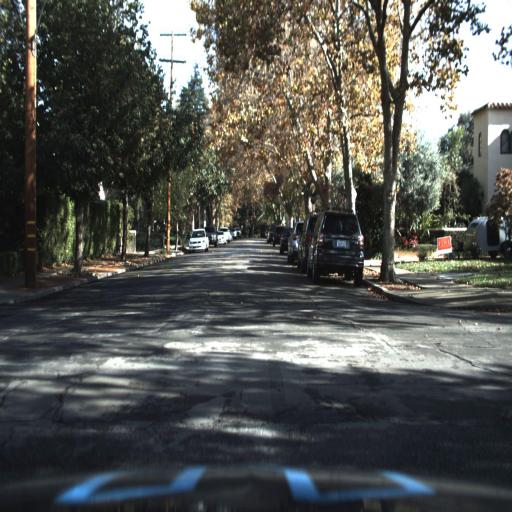car: (307, 207, 364, 284), (298, 208, 313, 280), (287, 218, 301, 265), (188, 227, 209, 254), (187, 229, 210, 253), (207, 224, 219, 253), (213, 225, 226, 247)
